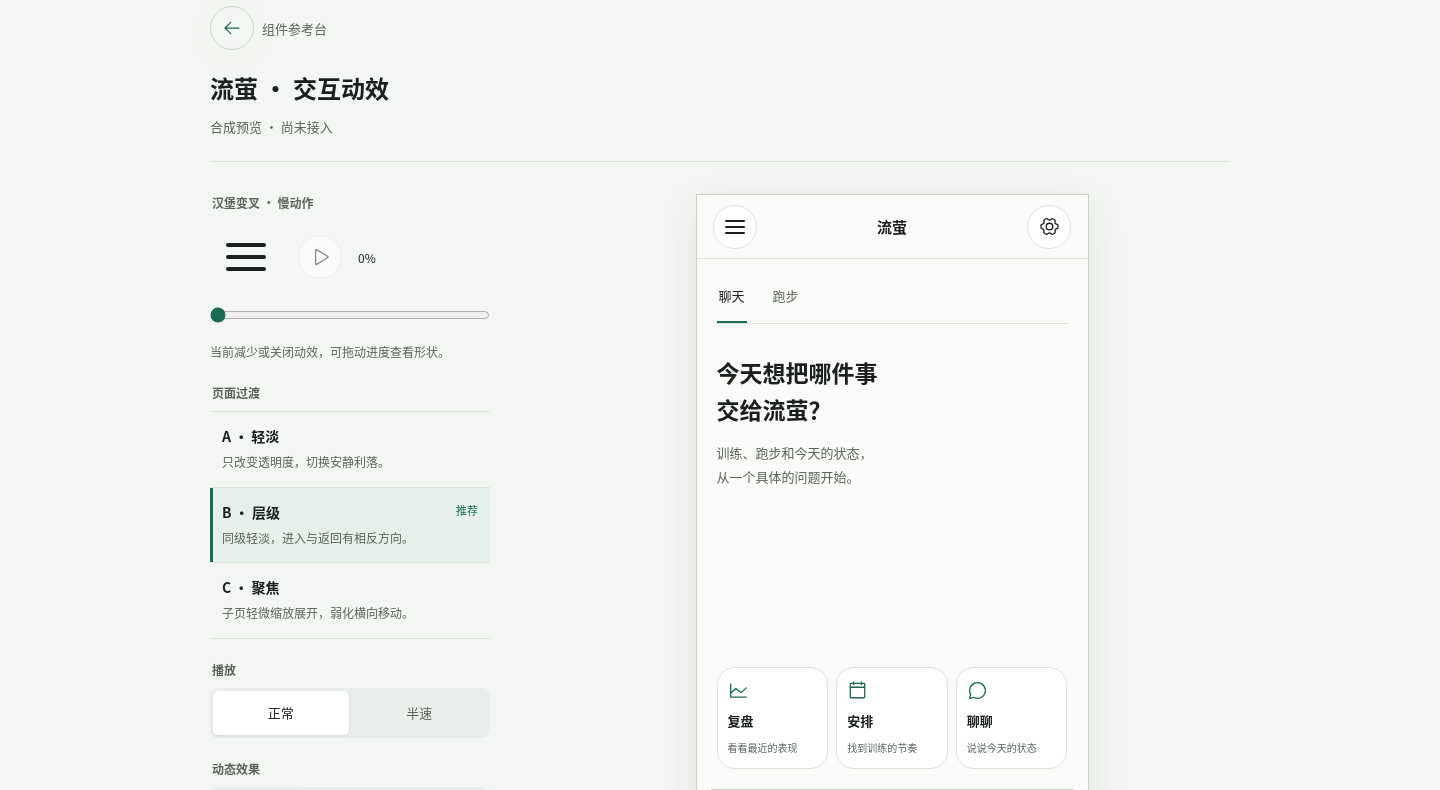
Test: 合成保存失败保留原值，结束后没有自动重试
The image size is (1440, 790).
Click the button named "打开设置预览" at (1050, 226), box top-left (1028, 204), bottom-right (1072, 248)
(page scrolled)
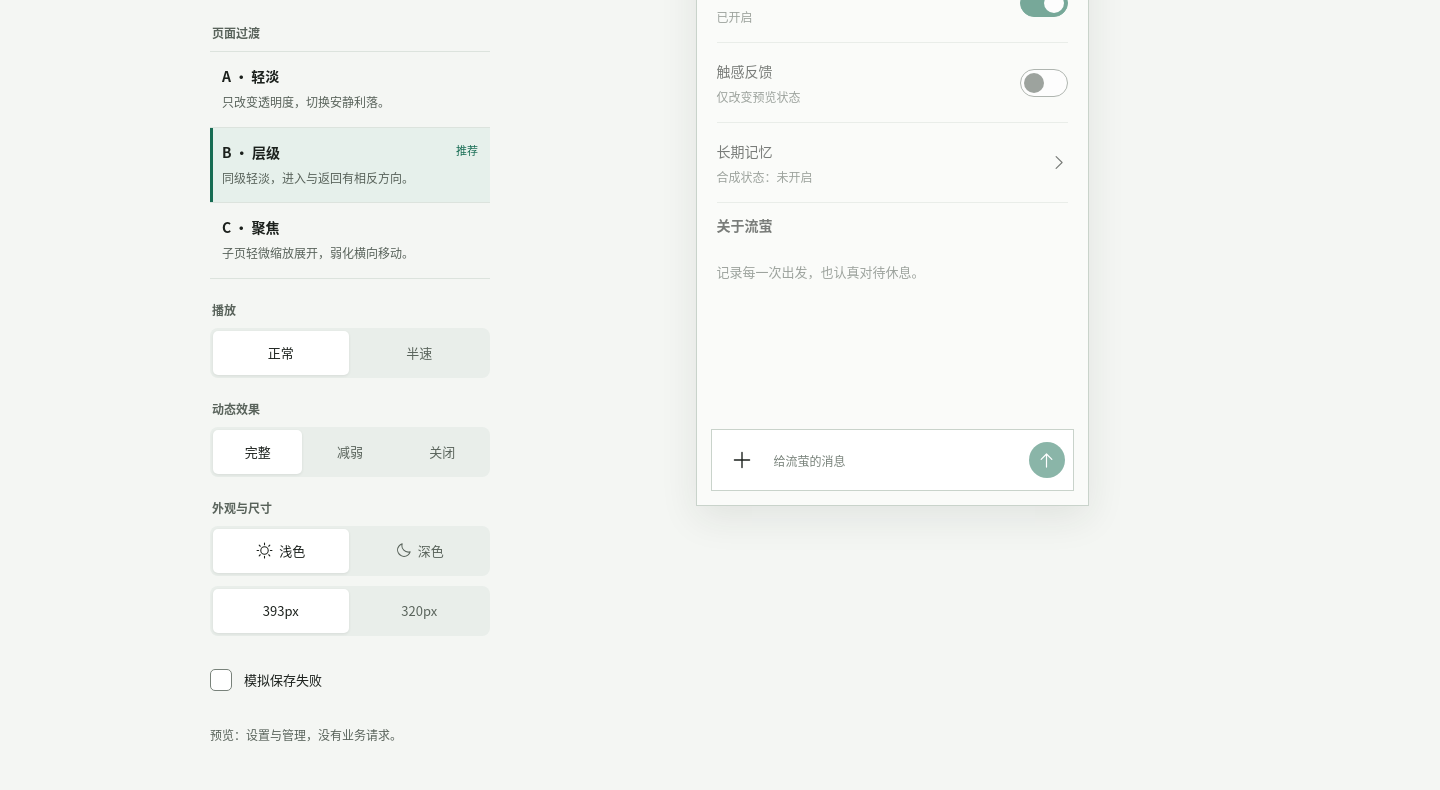
Click the checkbox labelled "模拟保存失败" at (266, 680), box top-left (210, 669), bottom-right (322, 691)
(page scrolled)
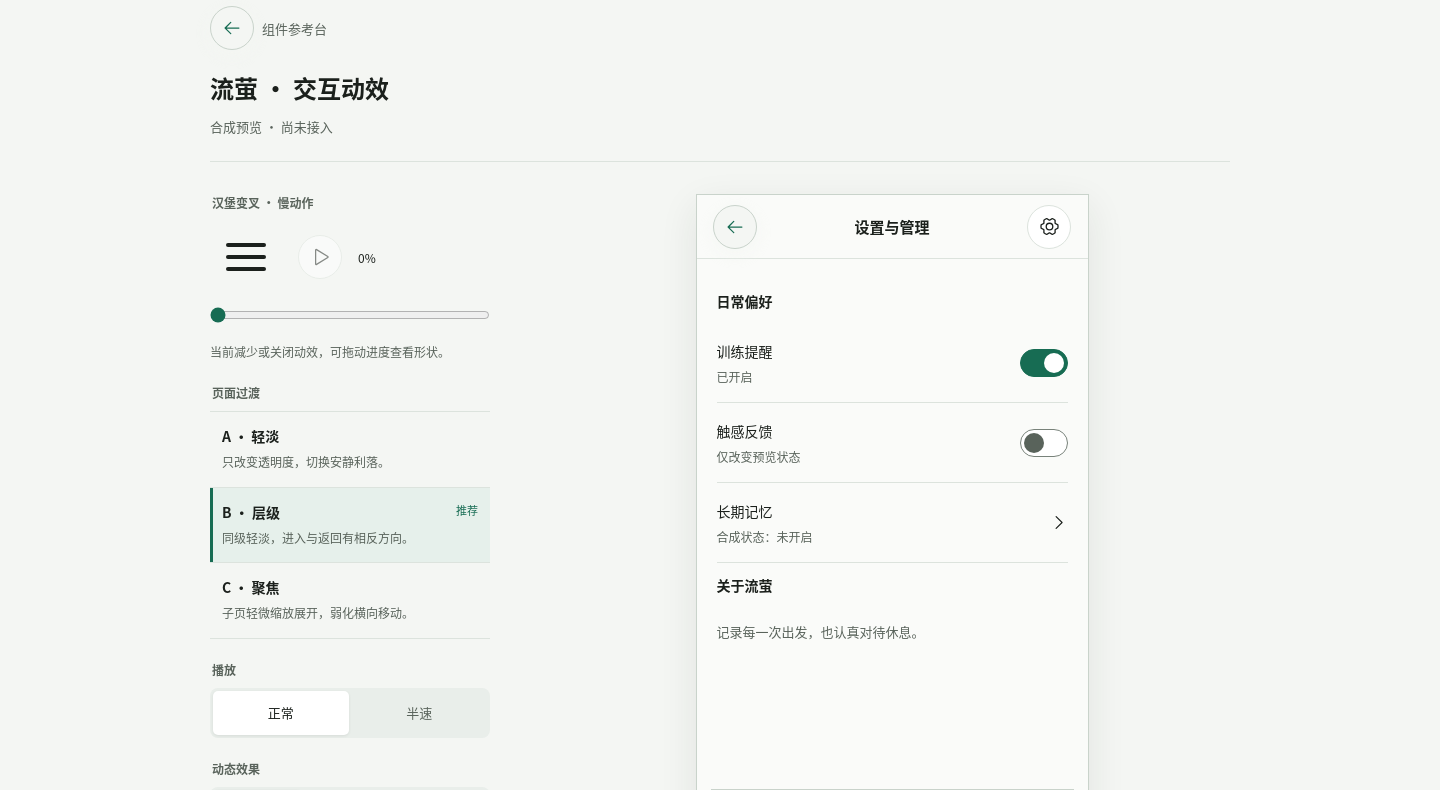
Click the switch named "训练提醒预览" at (744, 350), box top-left (716, 323), bottom-right (1068, 403)
Wait 10700 ms
(page scrolled)
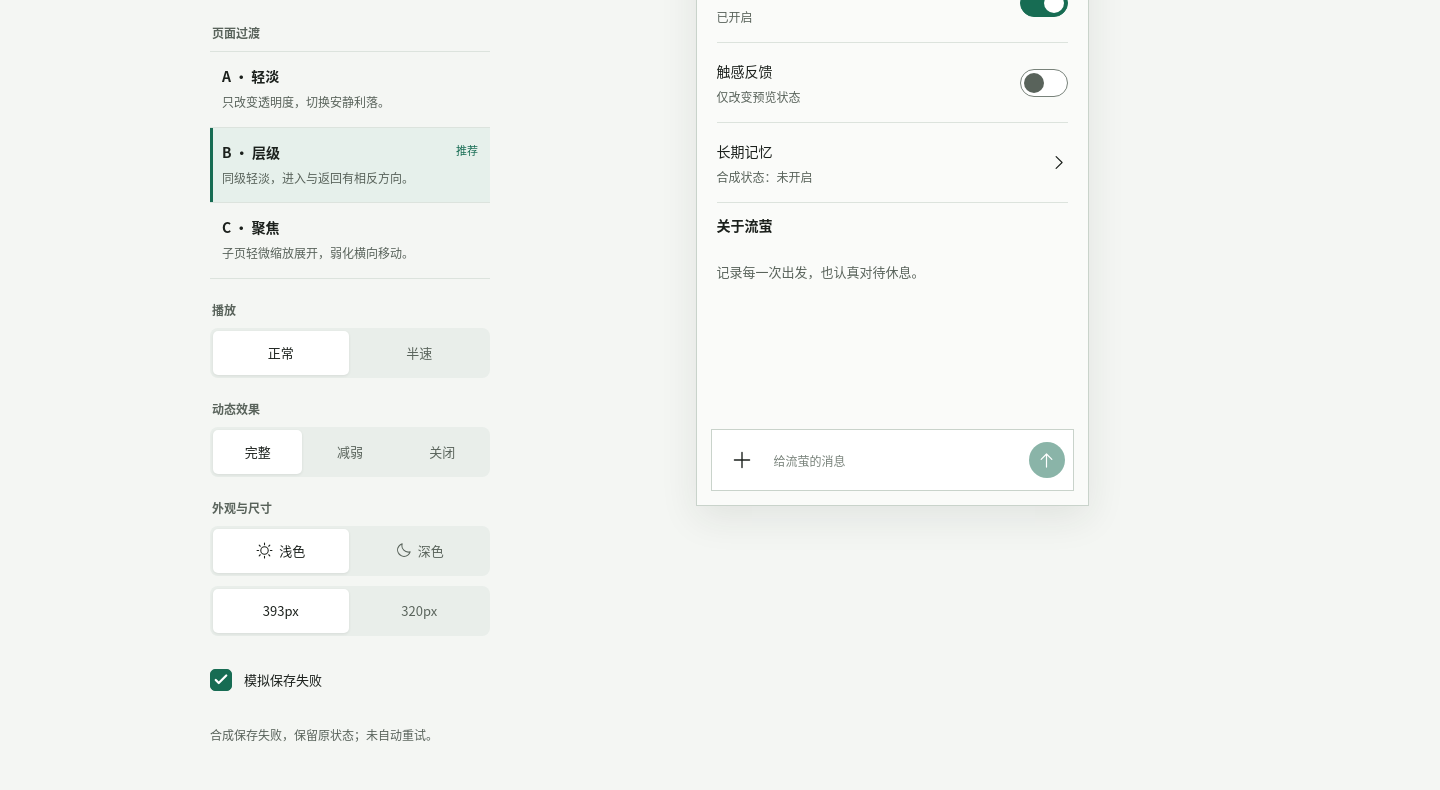
Expected: the message shows "合成保存失败", top-left (210, 726), bottom-right (438, 743)
Expected: the message shows "未自动重试", top-left (210, 726), bottom-right (438, 743)
